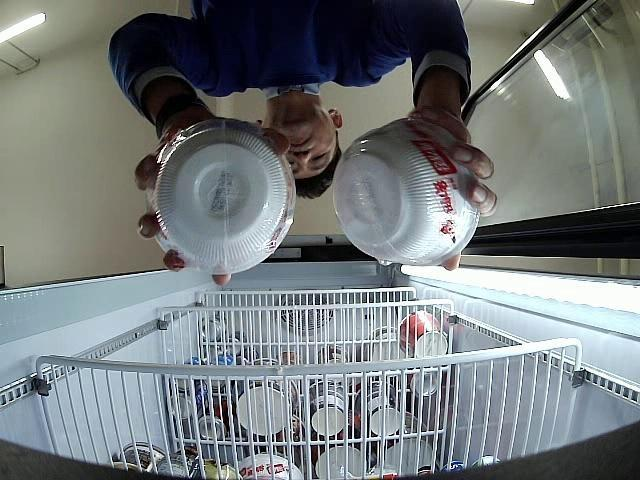09_yukGaeJang: (145, 120, 296, 274), (333, 118, 480, 266)
